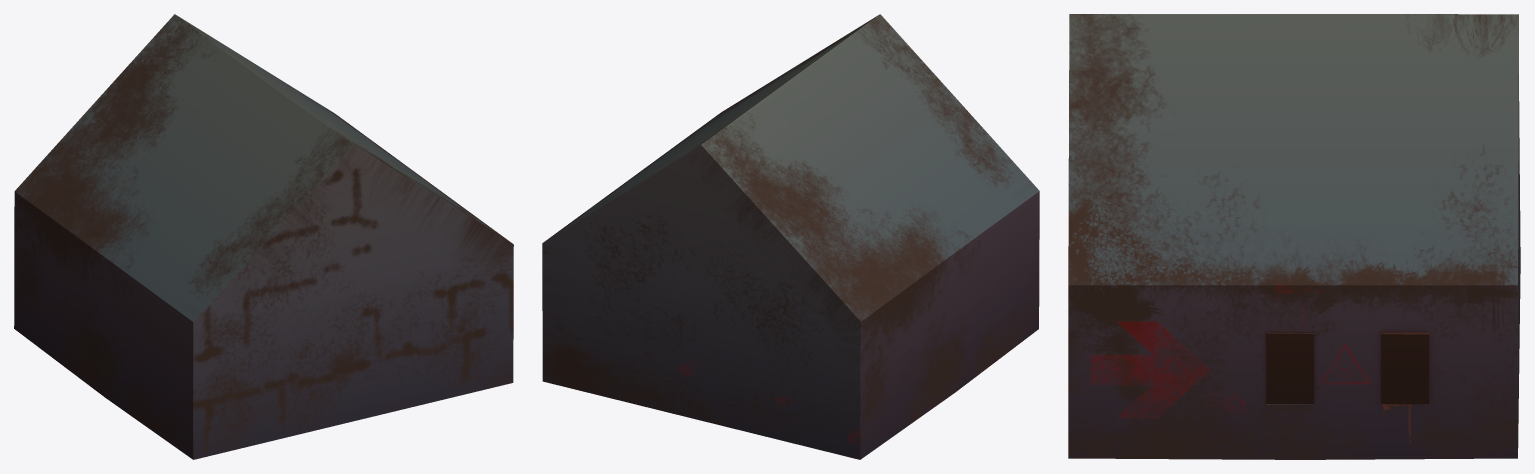
The model's file is Build4.glb.
The picture shows the model from 3 angles, left to right: view 1: azimuth 30°, elevation 25°; view 2: azimuth 150°, elevation 25°; view 3: azimuth 270°, elevation 25°; orthographic projection. The views are drawn at different scales.
Visible parts, largest first — view 1: barn03; view 2: barn03; view 3: barn03.
Part boxes in pixels (x1,y1,x2,y2): barn03: (14, 14, 513, 459); barn03: (542, 14, 1039, 459); barn03: (1068, 14, 1520, 459).
Size of the model in its own units: 6.85 by 5.56 by 6.58.
1 material, 1 textured.
